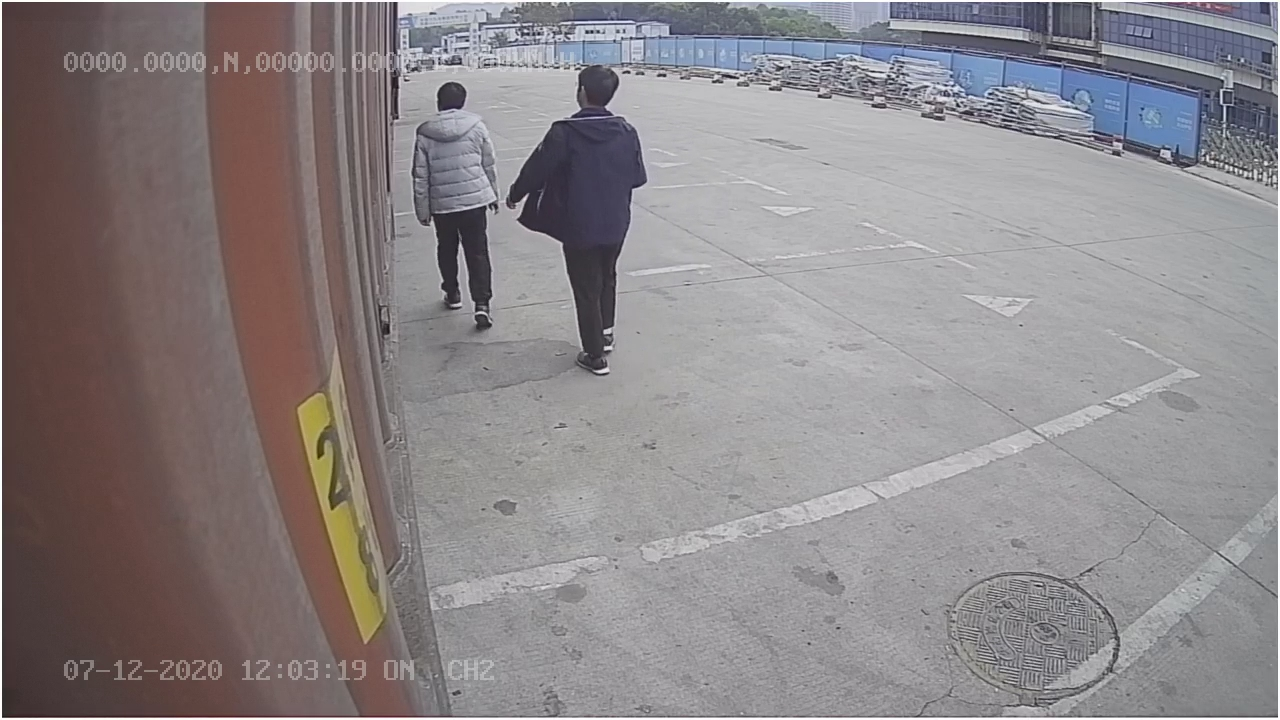person: (508, 63, 652, 378), (408, 80, 500, 329)
